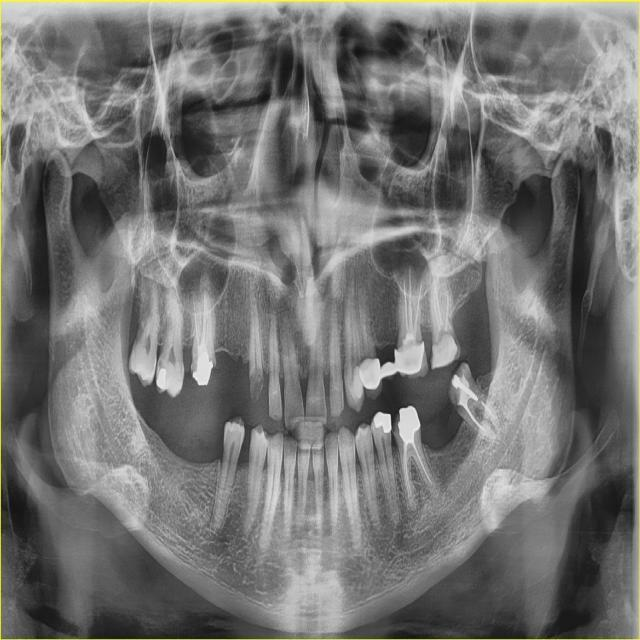71: (447, 372, 481, 406)
74: (454, 389, 488, 440), (404, 267, 423, 342), (410, 441, 435, 485), (194, 291, 209, 357), (432, 263, 444, 324), (401, 441, 412, 496), (432, 290, 442, 332), (479, 400, 497, 422), (444, 286, 448, 332)
NucleOSS Implant: (394, 404, 423, 445), (190, 350, 217, 388), (372, 410, 392, 434), (155, 367, 167, 389)
Sterngold Implant: (249, 365, 265, 402), (449, 385, 460, 409), (454, 360, 467, 380), (207, 347, 217, 367), (391, 412, 399, 433), (191, 351, 197, 377), (157, 358, 164, 370)
Straumann Implant: (423, 333, 463, 371), (346, 366, 368, 405)
Zimmer Implant: (392, 341, 432, 382), (358, 357, 385, 401), (377, 360, 401, 386)
